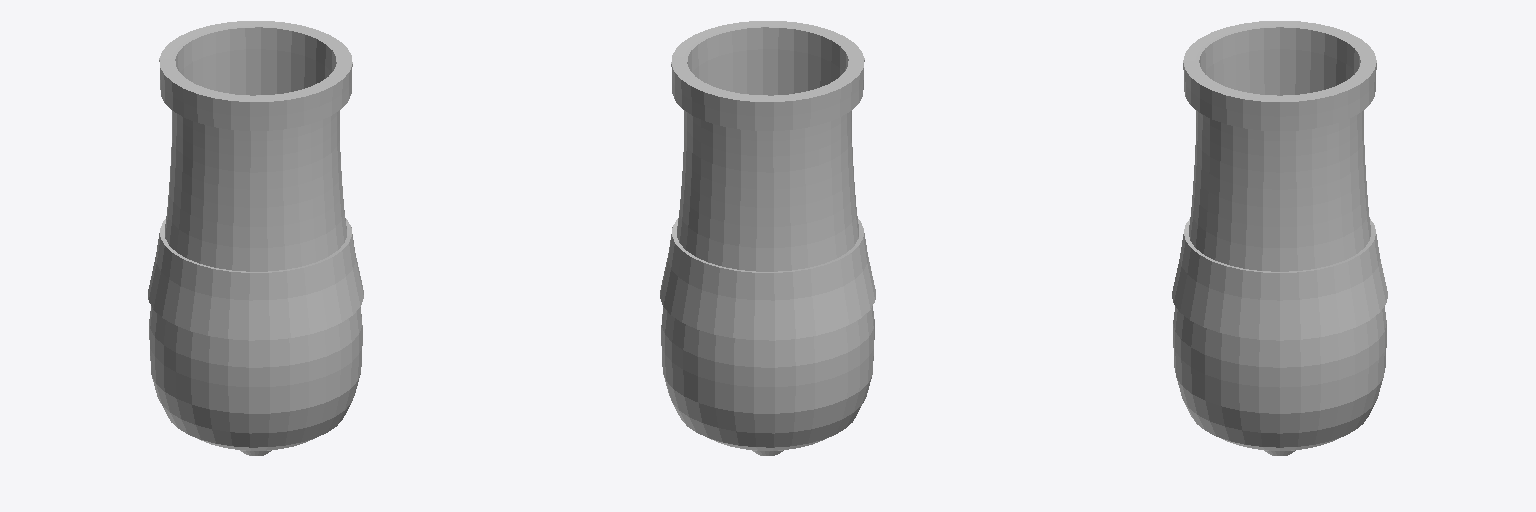
The model's file is cannon_16.obj.
3 renders of one model, left to right at view 1: azimuth 30°, elevation 25°; view 2: azimuth 150°, elevation 25°; view 3: azimuth 270°, elevation 25°, orthographic.
Parts seen in each view (by area): view 1: 炮管.003_柱体.009; view 2: 炮管.003_柱体.009; view 3: 炮管.003_柱体.009.
Part boxes in pixels (x1,y1,x2,y2): 炮管.003_柱体.009: (148, 21, 363, 455); 炮管.003_柱体.009: (660, 21, 875, 455); 炮管.003_柱体.009: (1172, 21, 1387, 455).
Bounding box in the file's own units: 0.8576 × 1.7 × 0.8576.